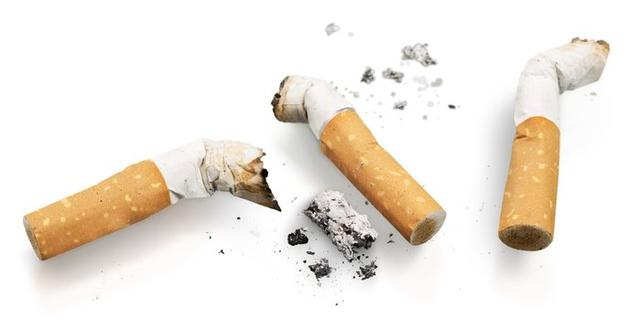Cigarette: (22, 136, 281, 261), (270, 73, 446, 245), (497, 35, 610, 251)
